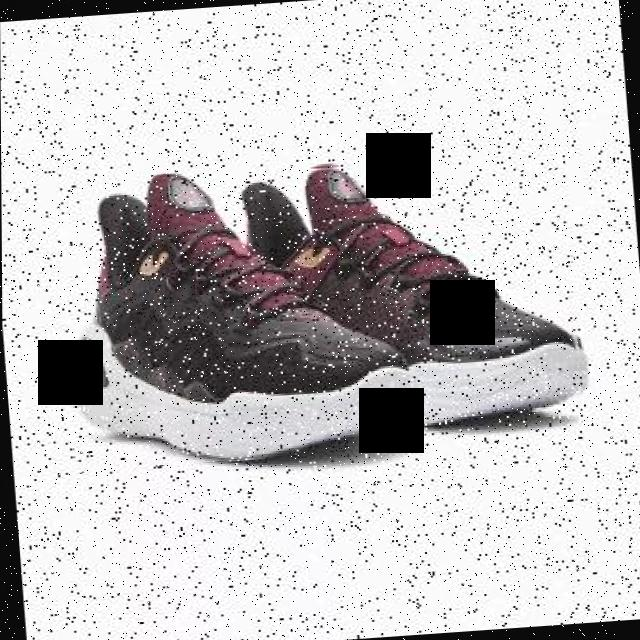shoe: (49, 157, 425, 473), (211, 150, 589, 438)
